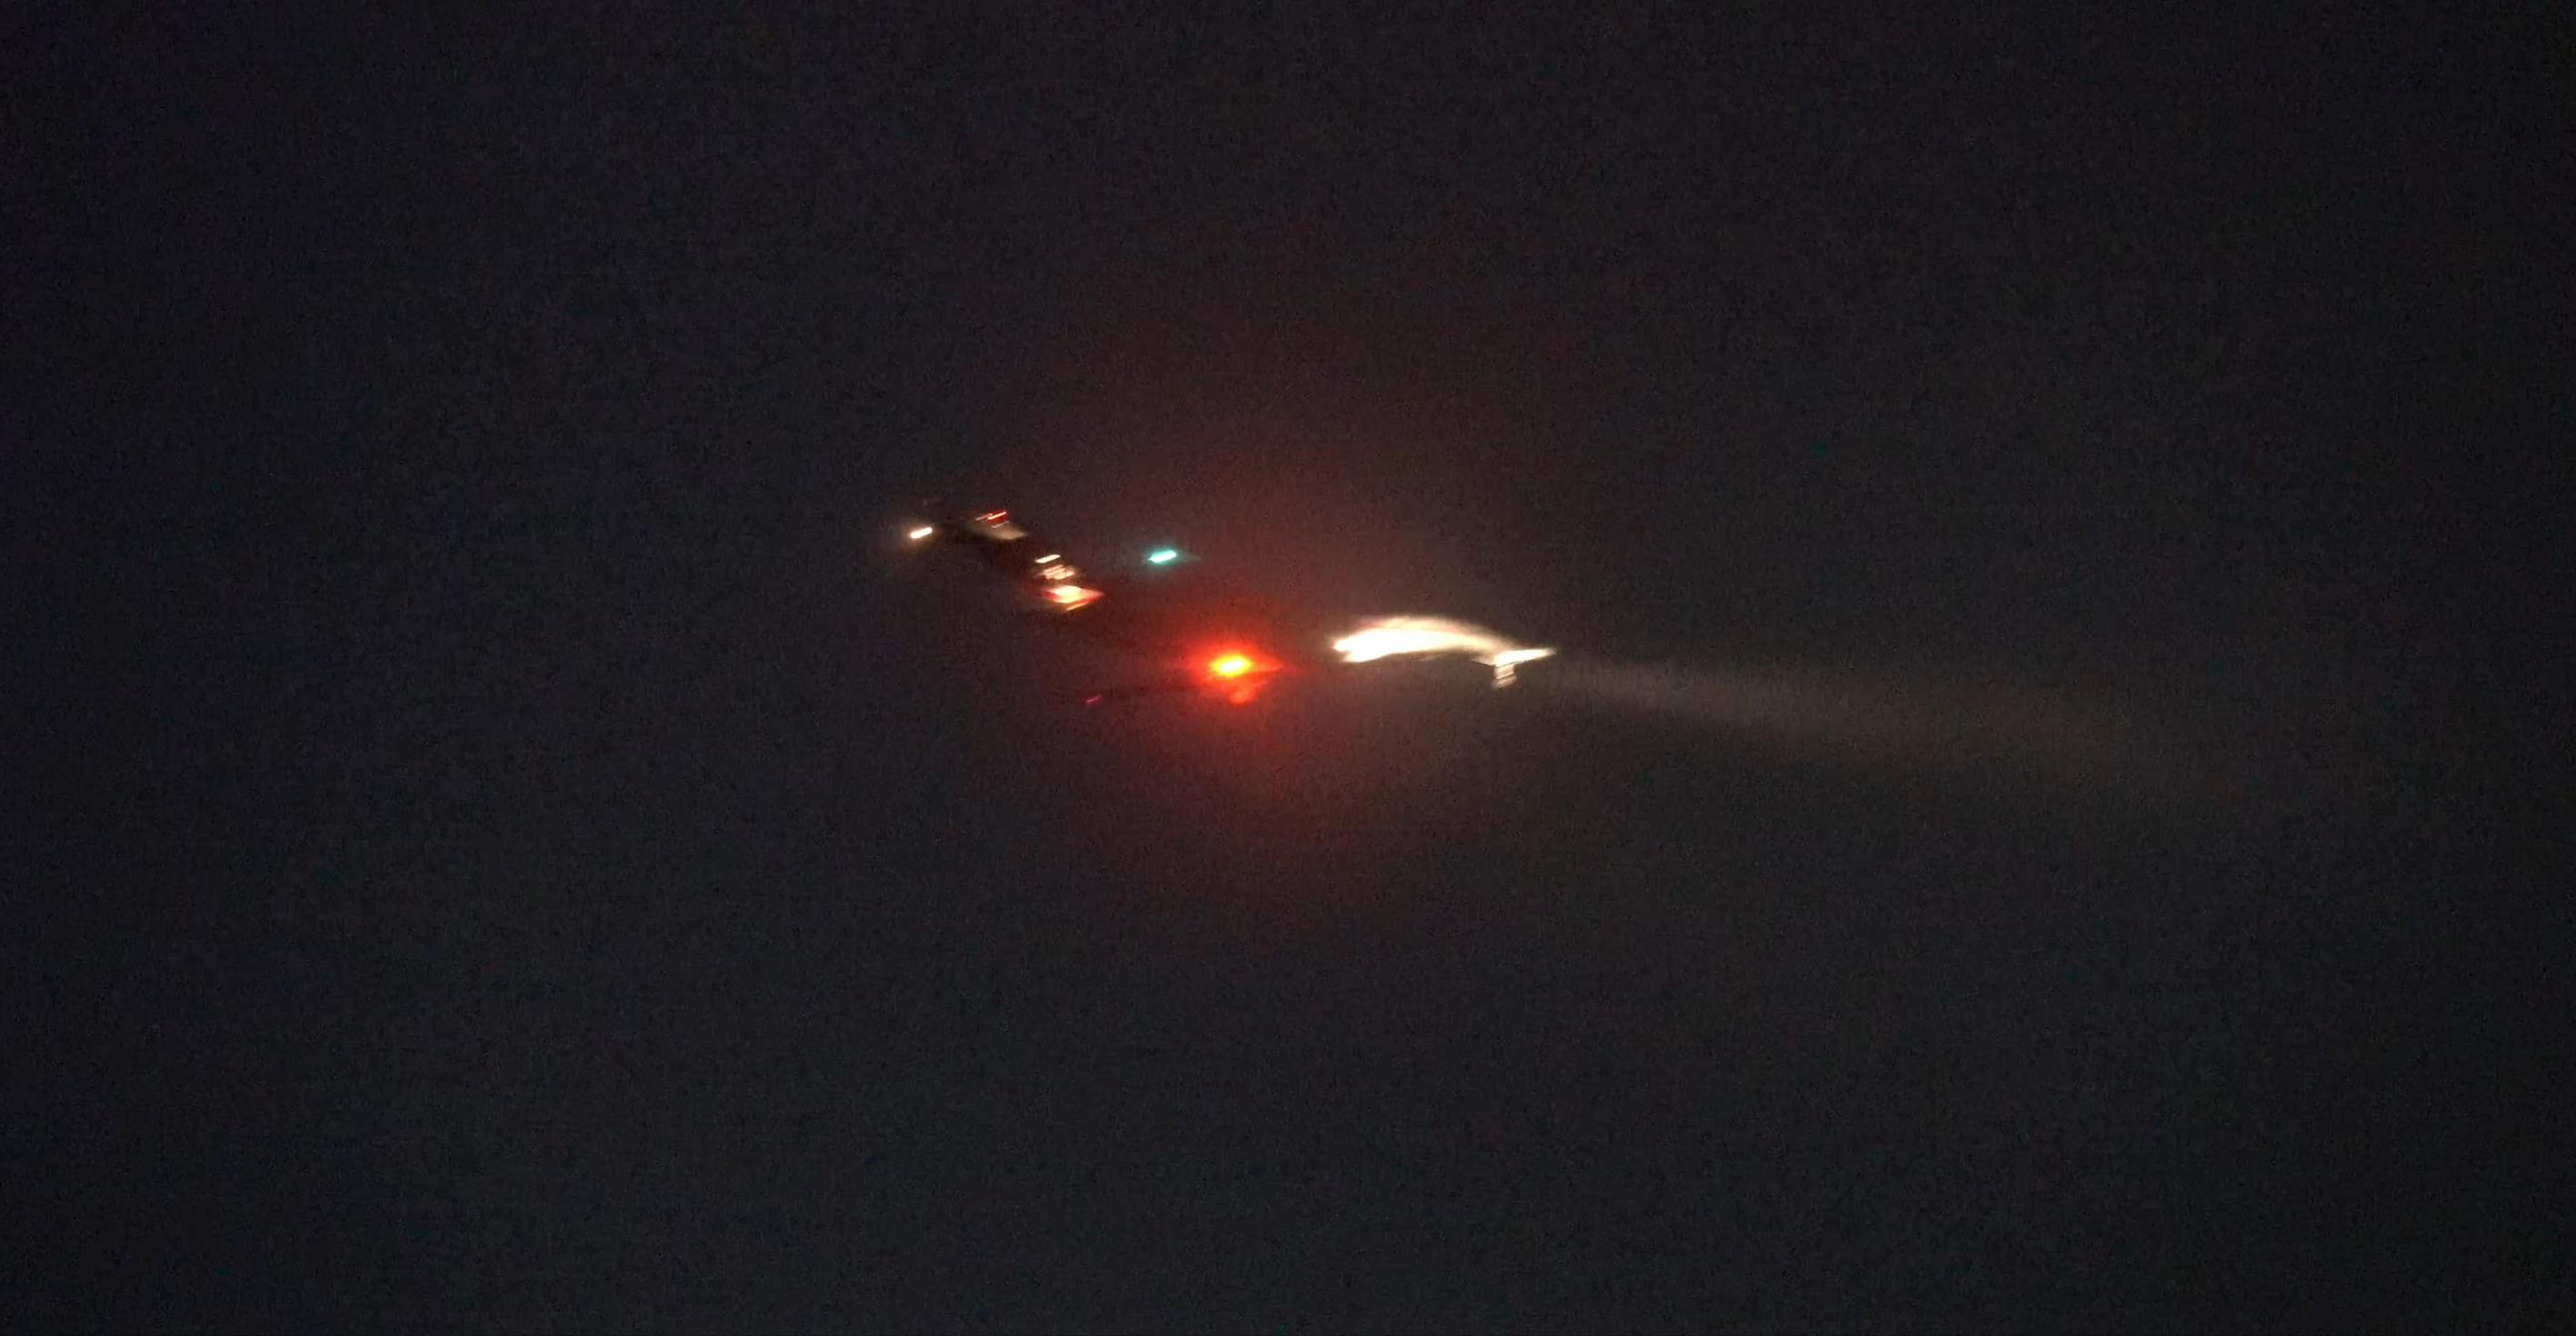Plane: (959, 516, 1545, 746)
